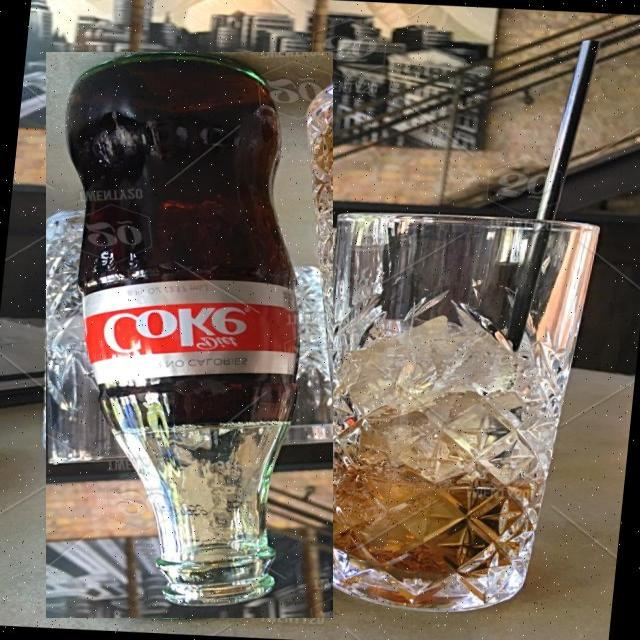coca-cola: (46, 52, 333, 618)
